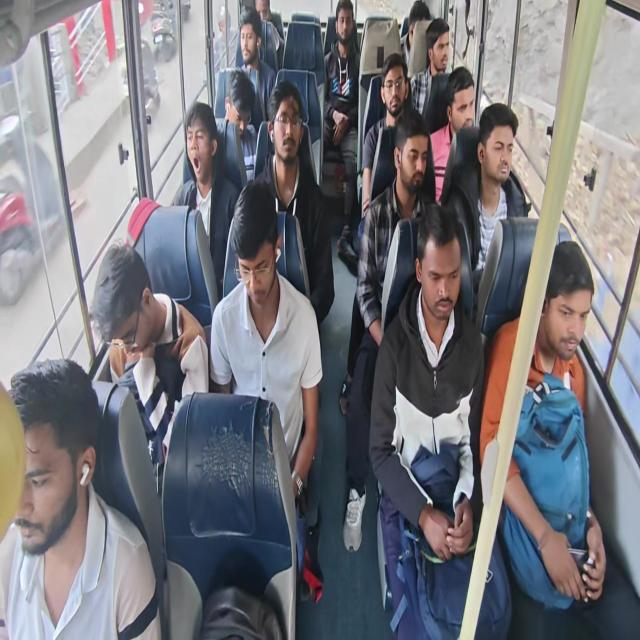person: (368, 202, 512, 638), (479, 240, 607, 614), (209, 180, 323, 598), (0, 357, 162, 639), (339, 109, 437, 553), (89, 240, 209, 494), (252, 79, 334, 326), (446, 102, 527, 306), (172, 101, 239, 298), (322, 0, 360, 252), (360, 52, 415, 218), (429, 66, 475, 203), (235, 8, 276, 131), (410, 17, 450, 122), (224, 68, 258, 181), (401, 0, 431, 69), (213, 5, 239, 71), (254, 0, 284, 54)
